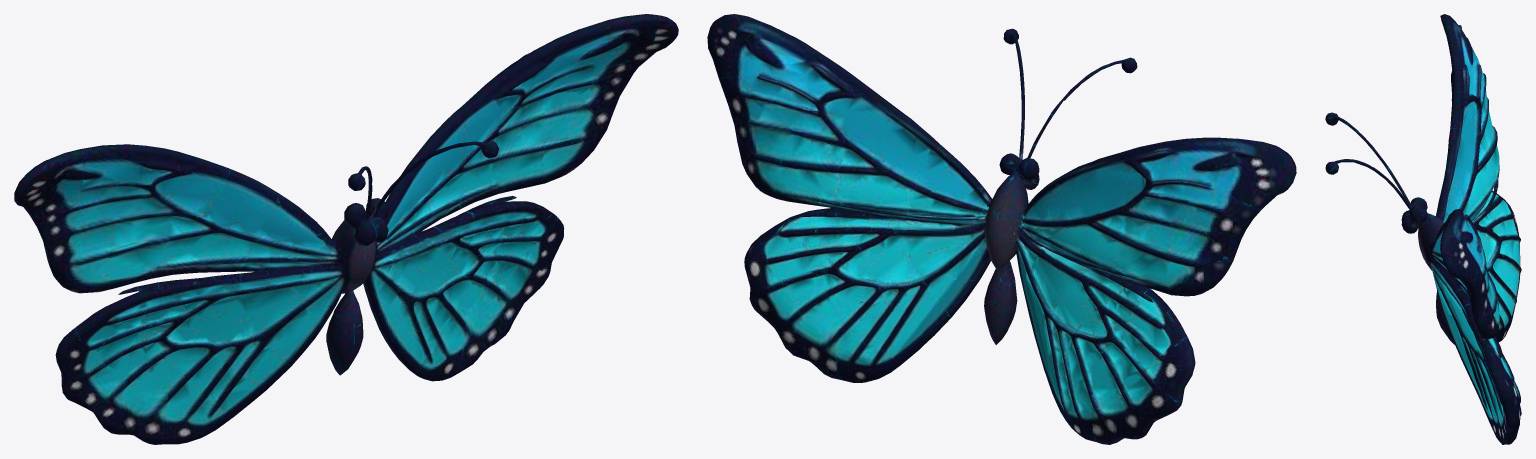
The picture shows the model from 3 angles, left to right: view 1: azimuth 30°, elevation 25°; view 2: azimuth 150°, elevation 25°; view 3: azimuth 270°, elevation 25°; orthographic projection. The views are drawn at different scales.
Parts seen in each view (by area): view 1: mesh_node; view 2: mesh_node; view 3: mesh_node.
Part boxes in pixels (bbox=[...]): mesh_node: bbox=[14, 14, 678, 444]; mesh_node: bbox=[707, 14, 1296, 444]; mesh_node: bbox=[1325, 14, 1521, 444].
Bounding box in the file's own units: 1.9 × 0.9584 × 0.6473.
Materials: 1 (1 with a texture image).
